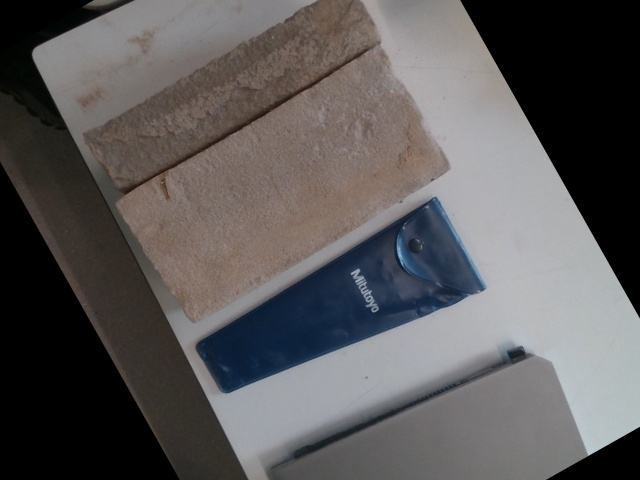brick: (118, 45, 447, 325)
